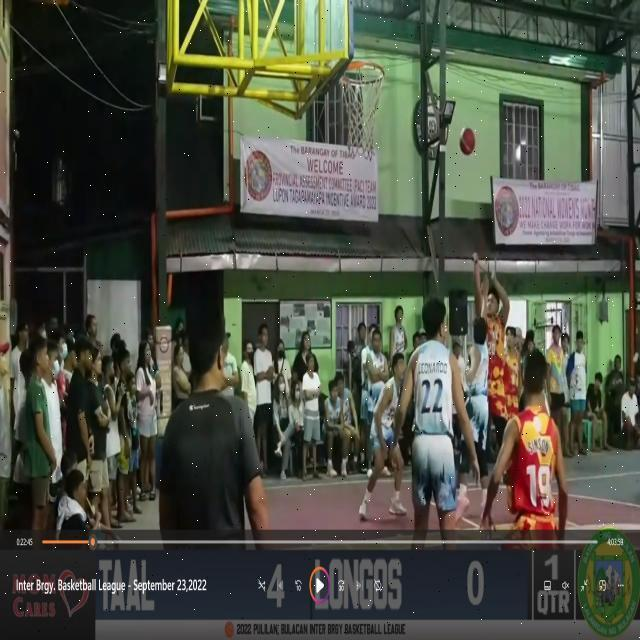ball: (458, 123, 476, 157)
hoop: (336, 61, 386, 86)
